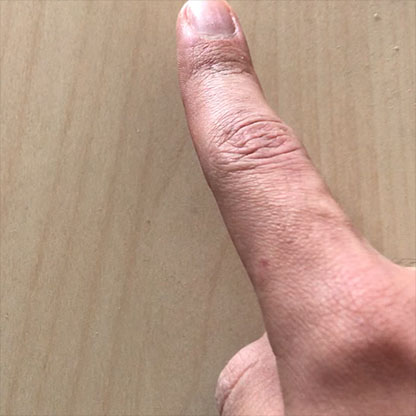fingertip: (161, 1, 262, 67)
